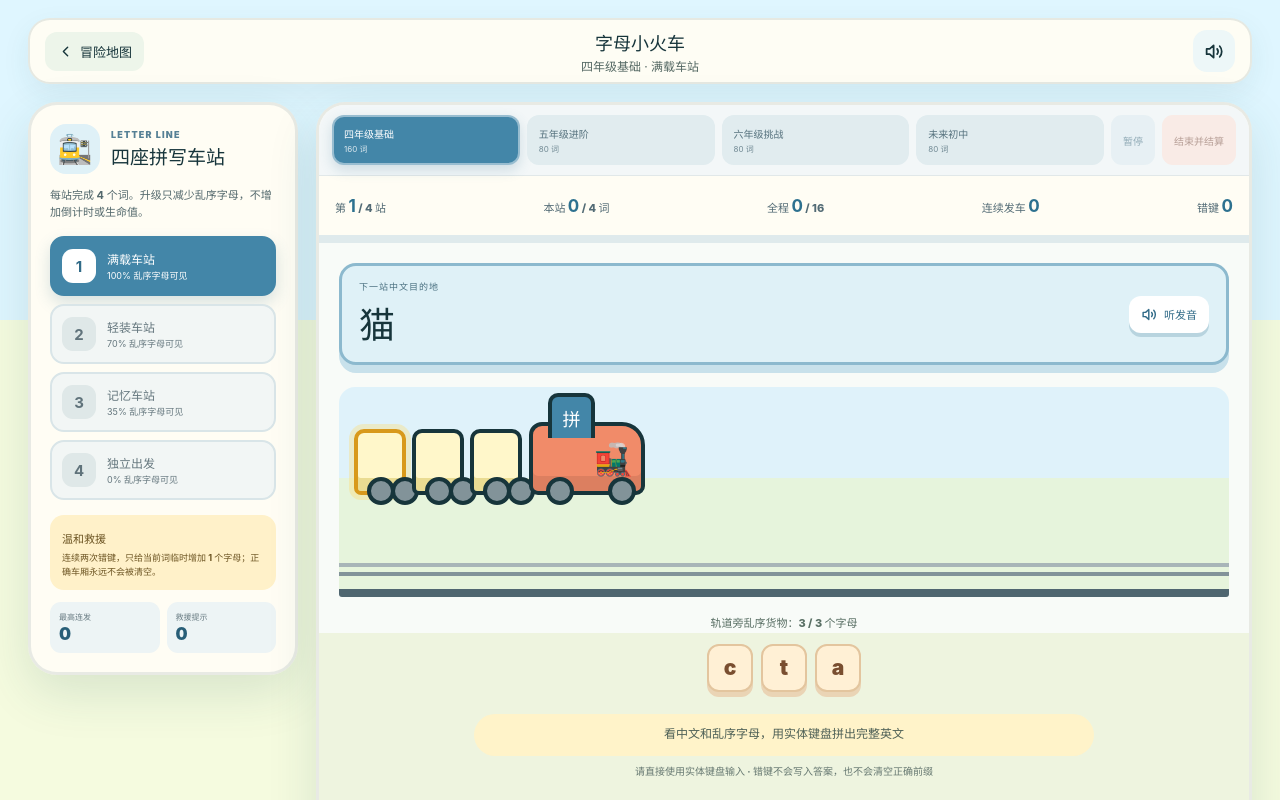
SpellGamePage › locks the selected level after input and saves an incomplete isolated run
Click the button "五年级进阶 80 词" at (621, 140), box top-left (527, 115), bottom-right (715, 165)
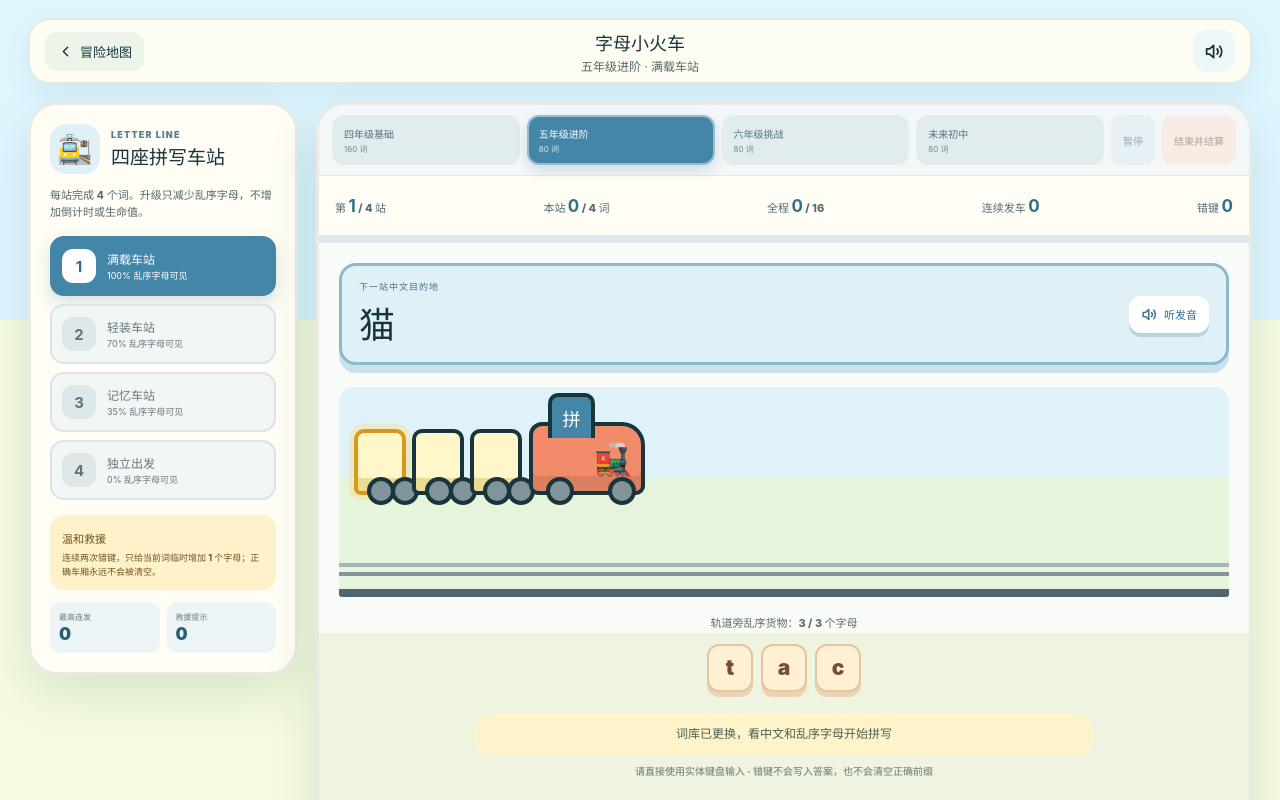
Press c
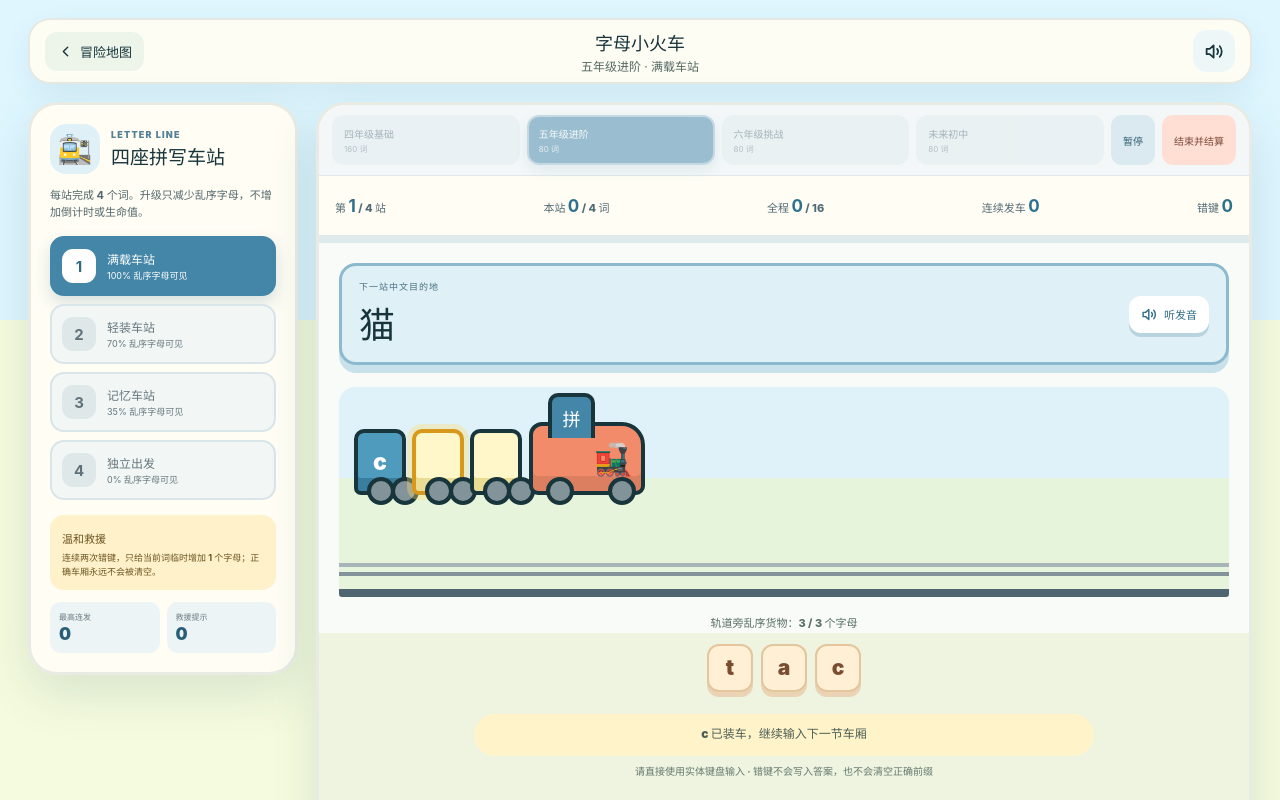
Now the button "四年级基础 160 词" is disabled, box top-left (332, 115), bottom-right (520, 165)
Click the button "结束并结算" at (1199, 140), box top-left (1162, 115), bottom-right (1236, 165)
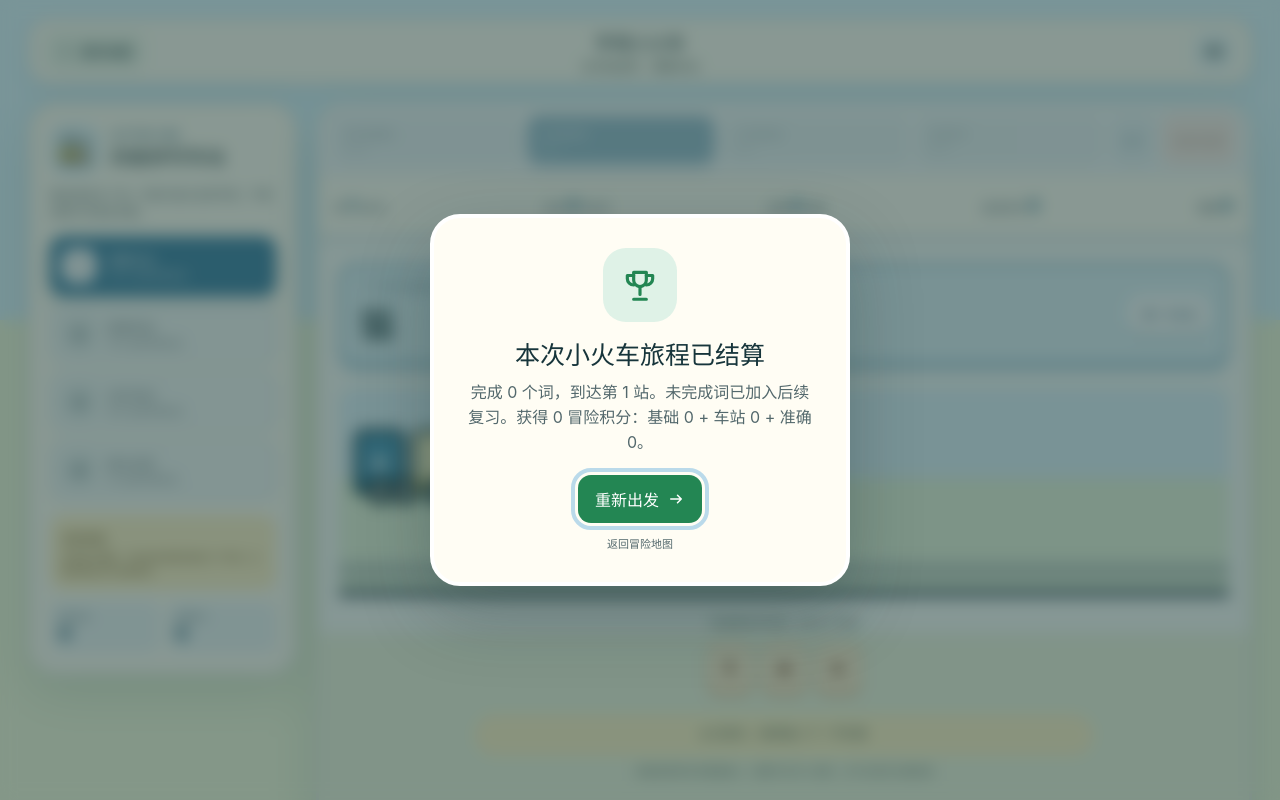
Now the dialog "本次小火车旅程已结算" is shown
